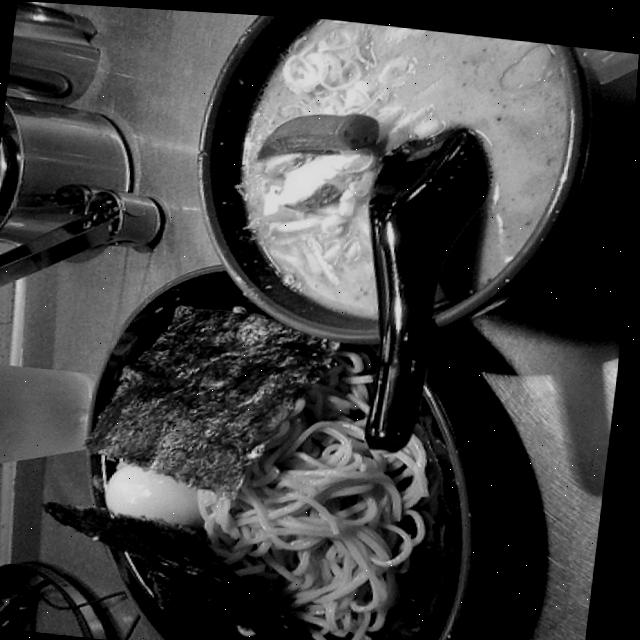面条主食: (85, 6, 598, 640)
